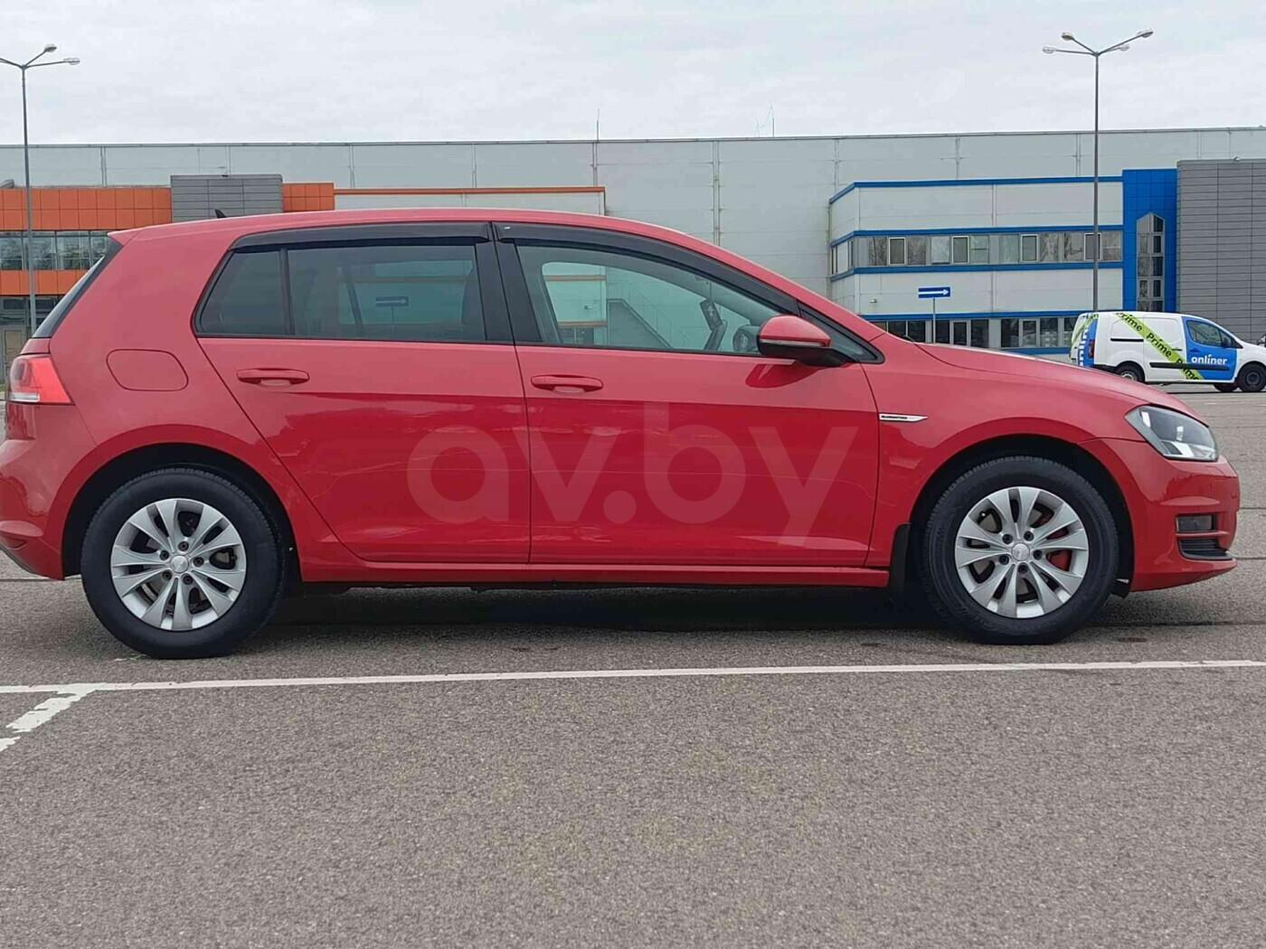Golf_2012-2017: (9, 205, 1239, 644)
